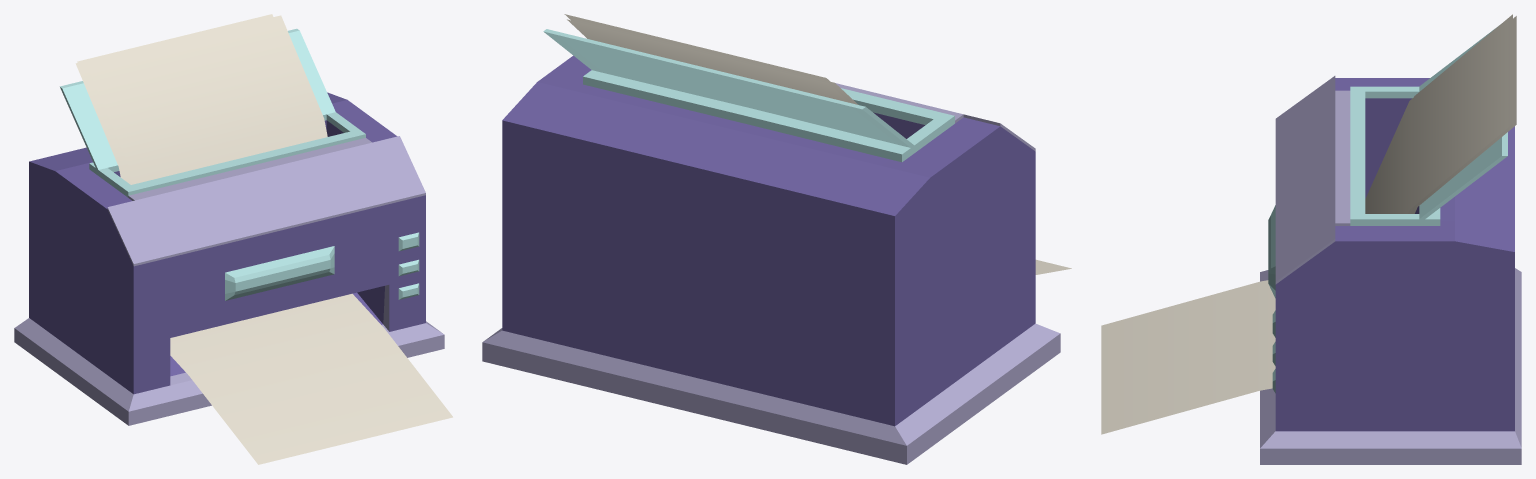
Rendered from printer_mdl_v001.fbx.
3 views of the same model, side by side, from view 1: azimuth 30°, elevation 25°; view 2: azimuth 150°, elevation 25°; view 3: azimuth 270°, elevation 25° (orthographic). The views are drawn at different scales.
Visible parts, largest first — view 1: printer, printedPaper, loadedPaper_03, loadedPaper_02; view 2: printer, loadedPaper_01, loadedPaper_03, loadedPaper_02; view 3: printer, printedPaper, loadedPaper_03, loadedPaper_01, loadedPaper_02.
Part boxes in pixels (x1,y1,x2,y2): printer: (14,28,444,425); printedPaper: (170,293,452,464); loadedPaper_03: (86,15,327,184); loadedPaper_02: (75,16,271,184); printer: (482,29,1060,464); loadedPaper_01: (567,19,848,102); loadedPaper_03: (564,14,829,81); loadedPaper_02: (573,19,858,104); printer: (1260,27,1521,464); printedPaper: (1101,280,1275,434); loadedPaper_03: (1365,19,1508,213); loadedPaper_01: (1410,16,1516,213); loadedPaper_02: (1408,14,1512,213).
Size of the model in its own units: 69.76 by 57.12 by 70.25.
